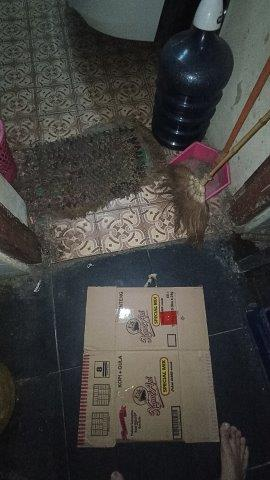kardus: (79, 287, 219, 446)
